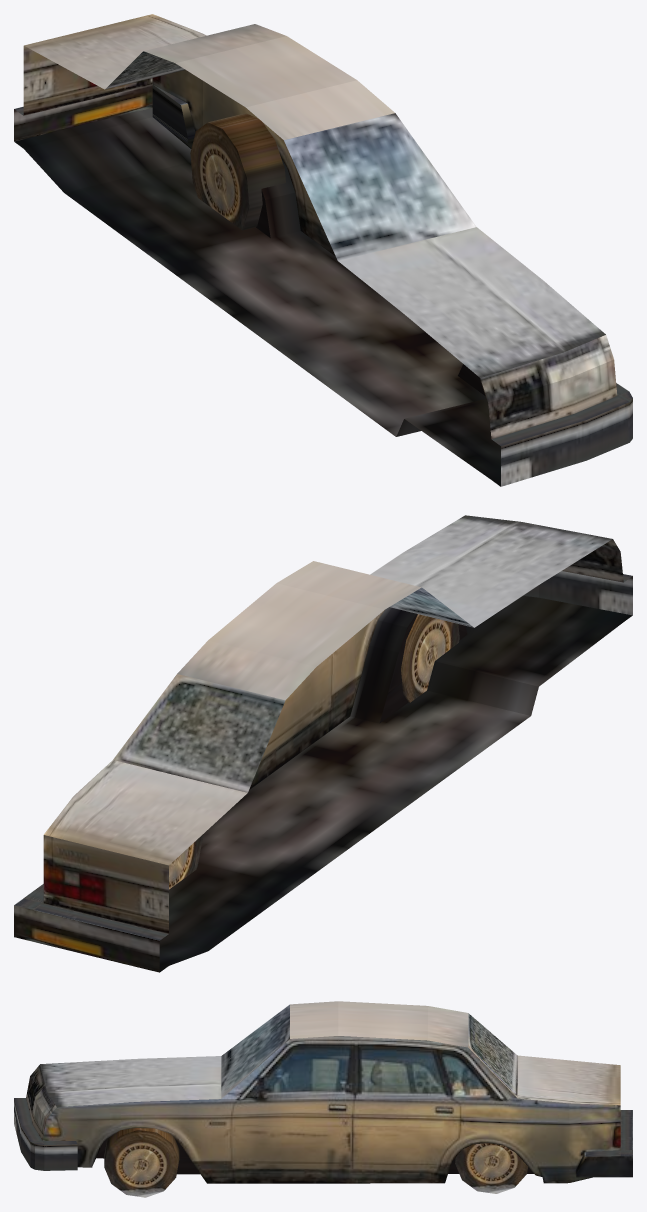
The model's file is volvo2.fbx.
The picture shows the model from 3 angles, top to bottom: view 1: azimuth 30°, elevation 25°; view 2: azimuth 150°, elevation 25°; view 3: azimuth 270°, elevation 25°; orthographic projection. The views are drawn at different scales.
Visible parts, largest first — view 1: Plane; view 2: Plane; view 3: Plane.
Part boxes in pixels (box(x1,y1,x2,y2)): Plane: box(14, 14, 632, 486); Plane: box(14, 515, 632, 972); Plane: box(14, 1001, 632, 1197).
Size of the model in its own units: 402 by 601 by 2226.
